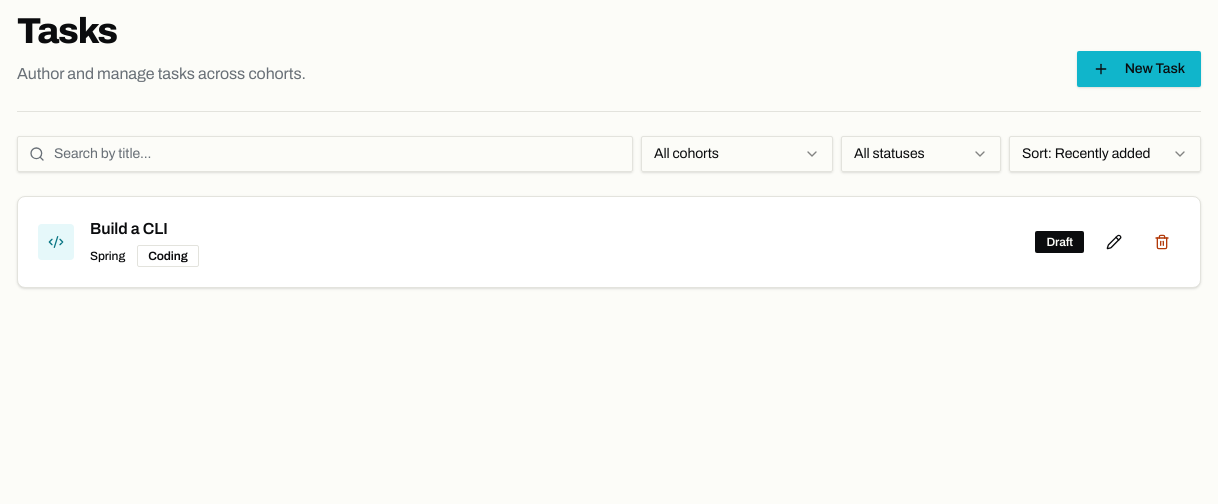
Test case: admin tasks page › says nothing matches when the search hides every task
Type "quiz" into the field named "Search tasks by title".
click(325, 154); type("quiz")  # box left=17, top=136, right=633, bottom=172
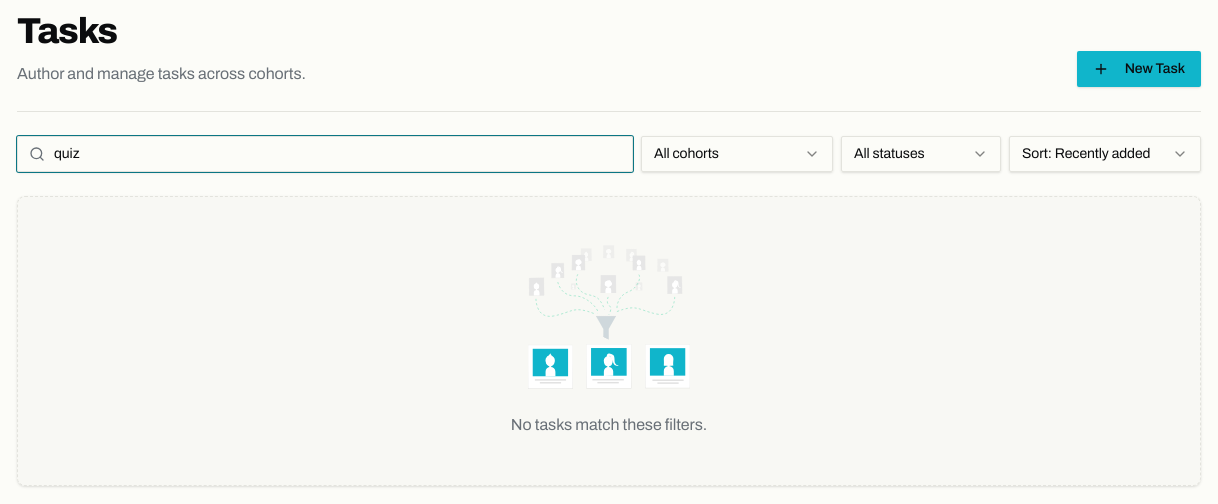
Expected: the text "No tasks match these filters." is shown, left=511, top=245, right=707, bottom=433
